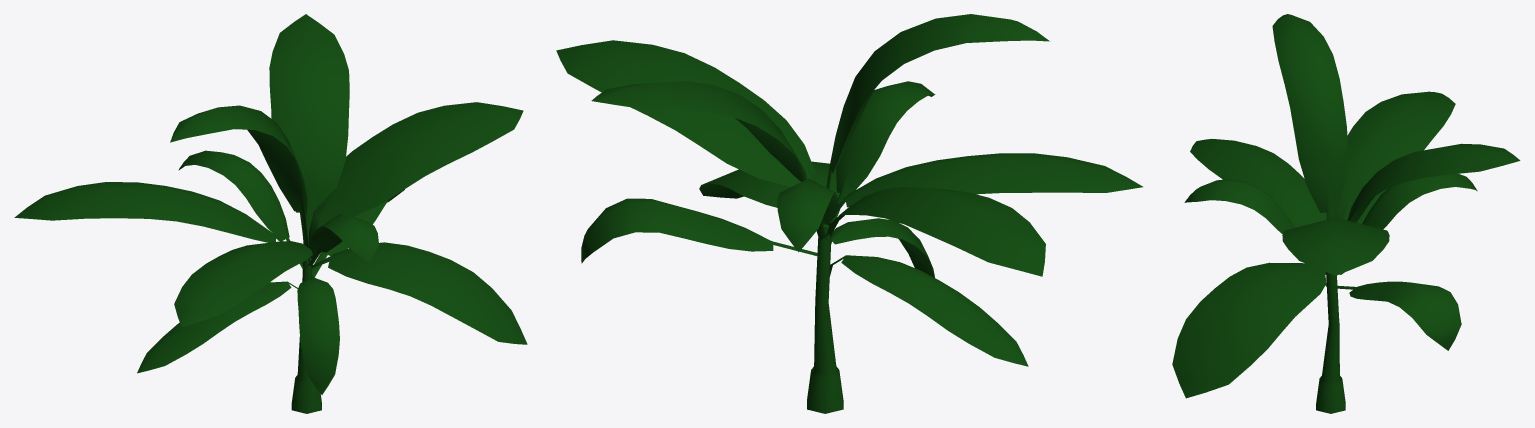
Rendered from Bush_006.FBX.
3 views of the same model, side by side, from view 1: azimuth 30°, elevation 25°; view 2: azimuth 150°, elevation 25°; view 3: azimuth 270°, elevation 25° (orthographic). The views are drawn at different scales.
Parts seen in each view (by area): view 1: Bush_006; view 2: Bush_006; view 3: Bush_006.
Part boxes in pixels (bbox=[...]): Bush_006: bbox=[14, 14, 527, 413]; Bush_006: bbox=[556, 14, 1142, 413]; Bush_006: bbox=[1172, 14, 1520, 413].
Size of the model in its own units: 136 by 95.96 by 92.05.
